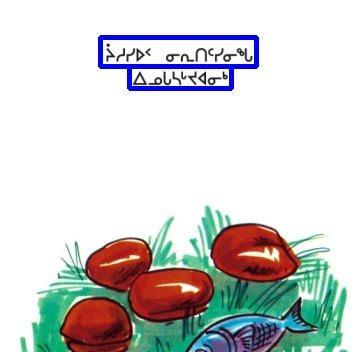inuktitut: (100, 37, 256, 66), (129, 66, 231, 88)
